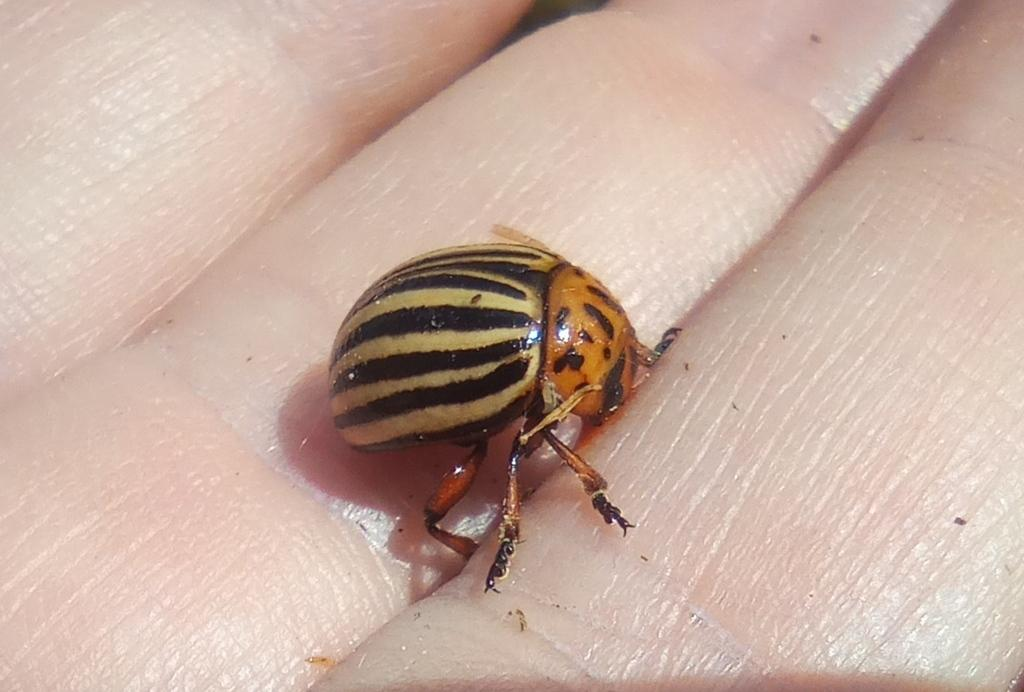potato_beetle: (280, 197, 737, 611)
